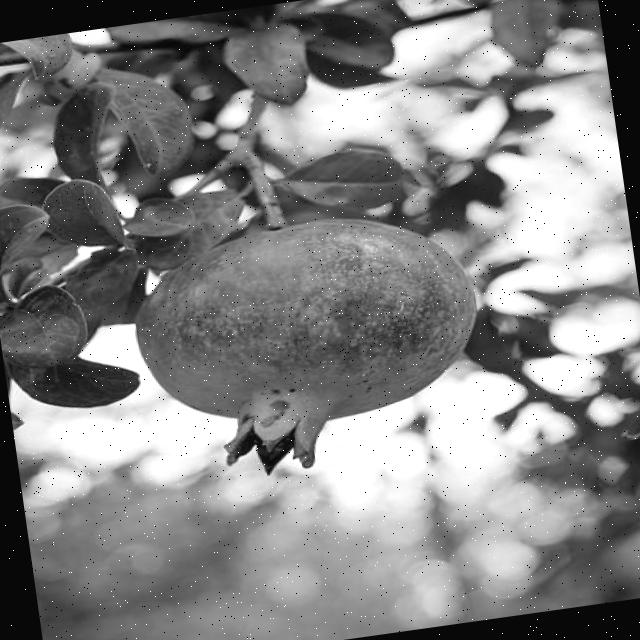Ripe: (115, 193, 496, 500)
